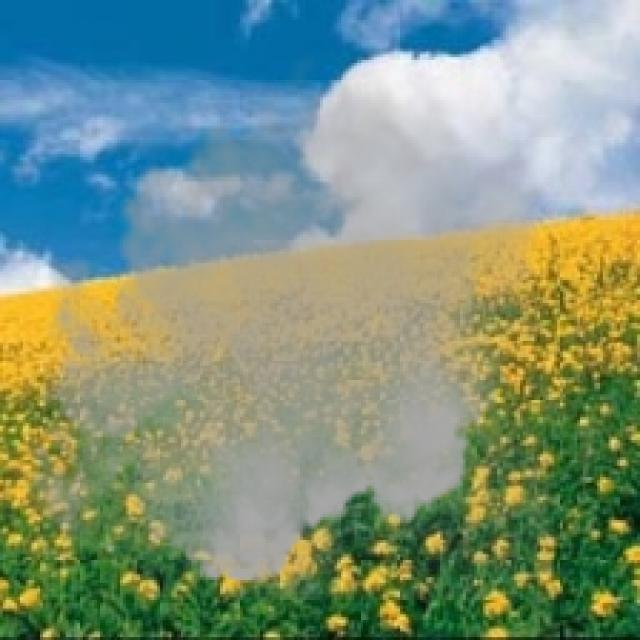smoke: (12, 43, 554, 600)
